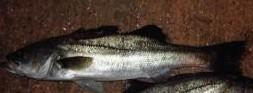fish: (2, 25, 244, 92)
